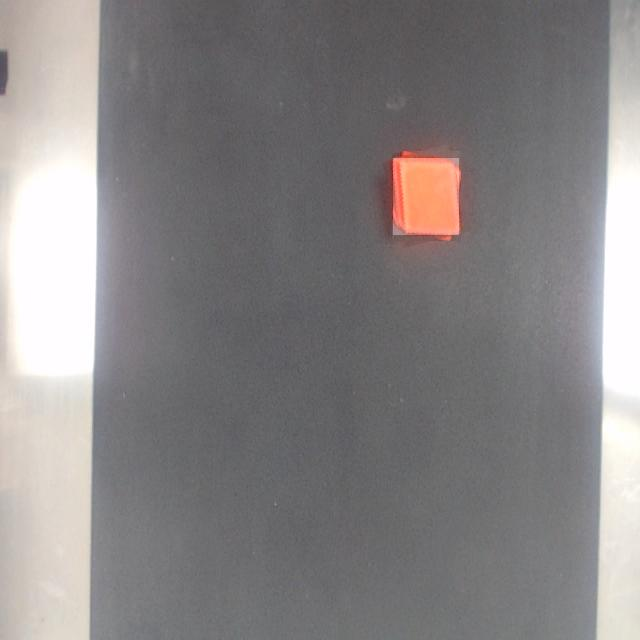Rojo: (393, 158, 459, 235)
